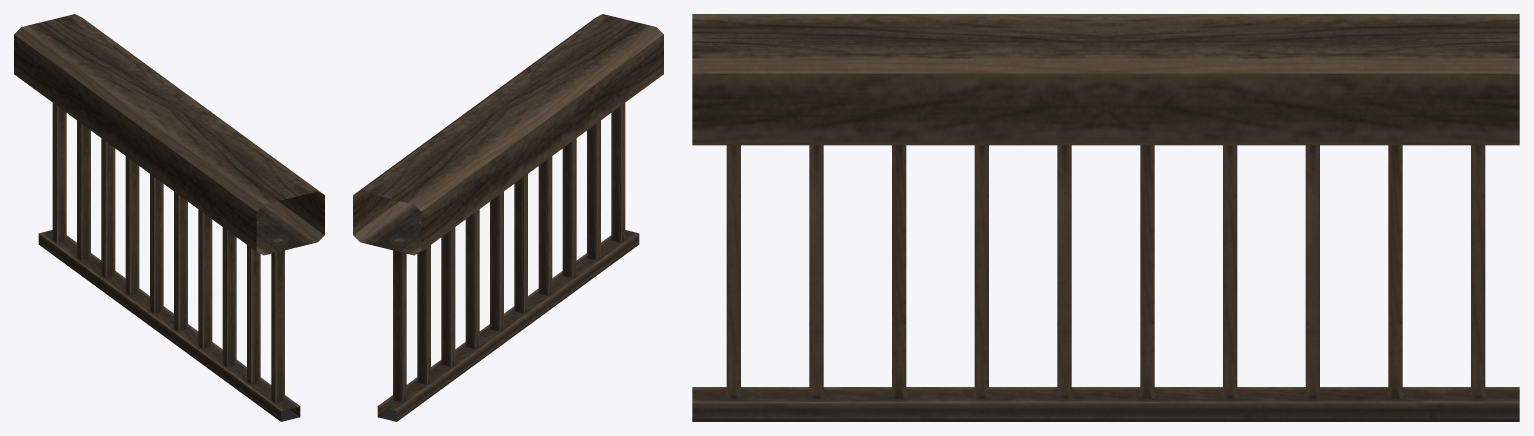
Rendered from Wall Interior Top 2x1 Window A.fbx.
The picture shows the model from 3 angles, left to right: view 1: azimuth 30°, elevation 25°; view 2: azimuth 150°, elevation 25°; view 3: azimuth 270°, elevation 25°; orthographic projection. The views are drawn at different scales.
Parts seen in each view (by area): view 1: Wall Interior Top 2x1 Window A; view 2: Wall Interior Top 2x1 Window A; view 3: Wall Interior Top 2x1 Window A.
Boxes of the visible parts, bbox=[...] form: Wall Interior Top 2x1 Window A: bbox=[14, 14, 324, 421]; Wall Interior Top 2x1 Window A: bbox=[353, 14, 663, 421]; Wall Interior Top 2x1 Window A: bbox=[692, 14, 1519, 421].
Size of the model in its own units: 0.324 by 1.01 by 2.
